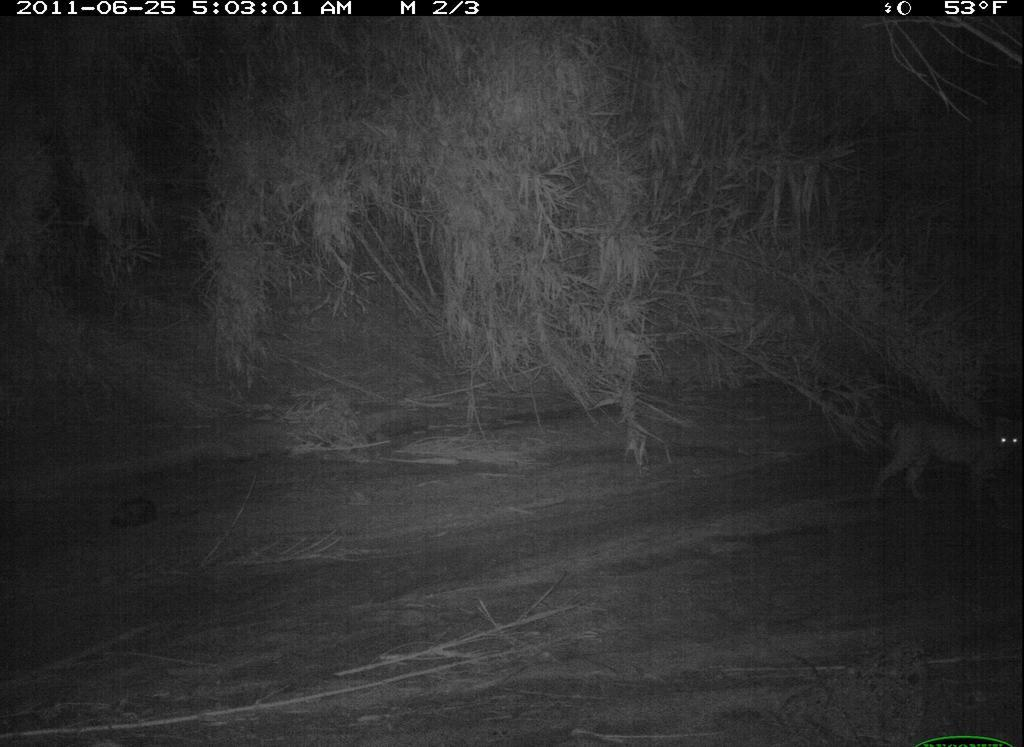bobcat: (867, 393, 1022, 518)
